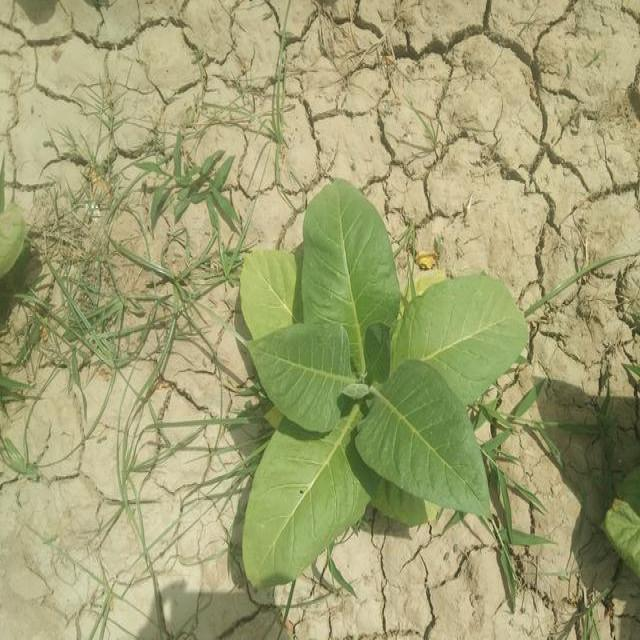crop: (244, 172, 531, 616)
